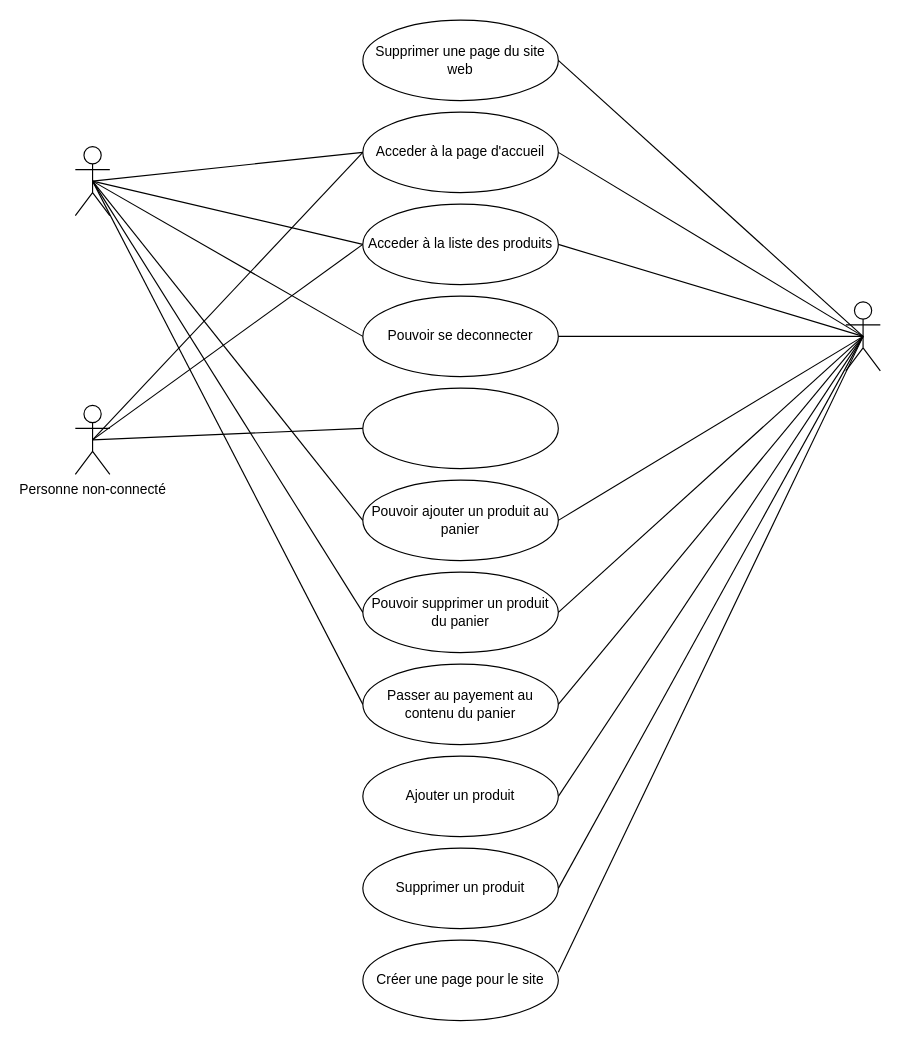
Some shapes in this 903 by 1041 pixel diagram are drawn without their labels. Each missing label, with the centre of its shape:
Admin: the point at 862,336
Pouvoir se connecter: the point at 460,428
Utilisateur: the point at 92,180
